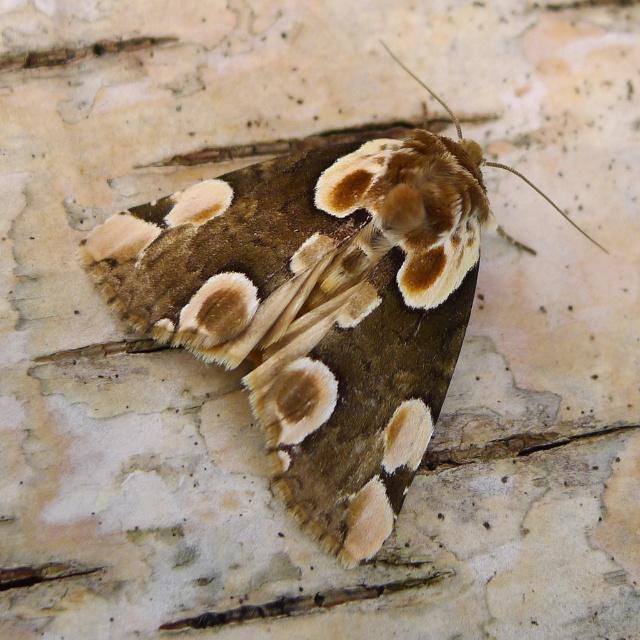Moths and butterflies: (72, 32, 612, 571)
